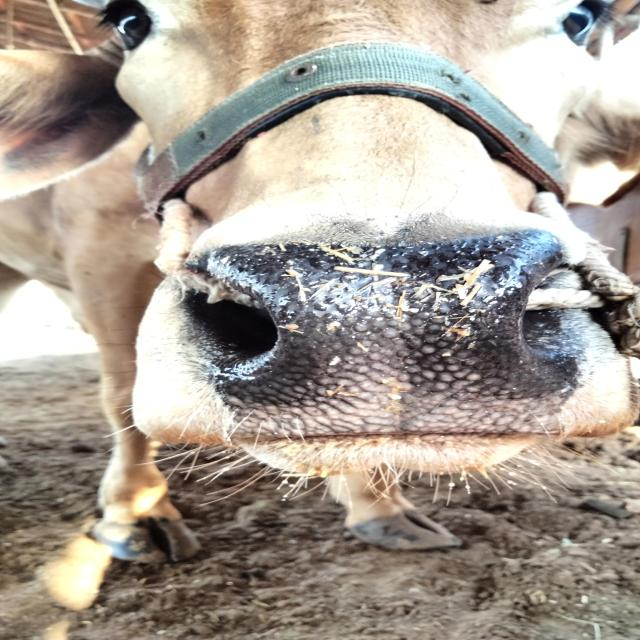muzzles: (162, 232, 594, 450)
